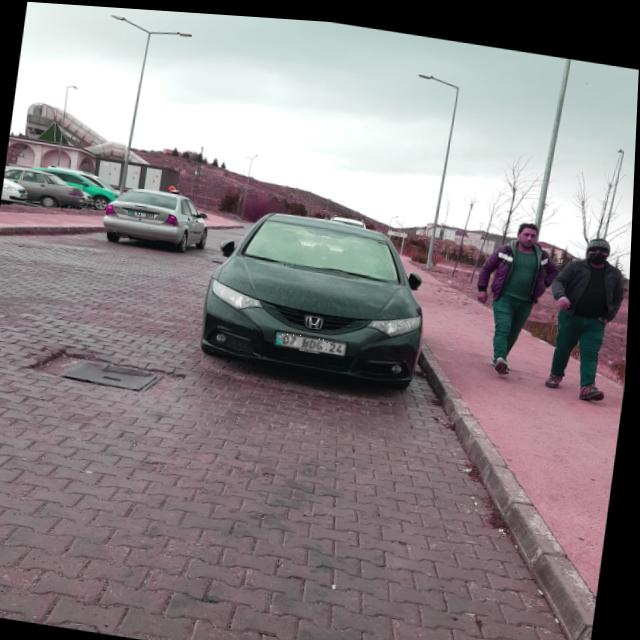license_plate: (278, 327, 350, 350), (129, 209, 154, 216)
